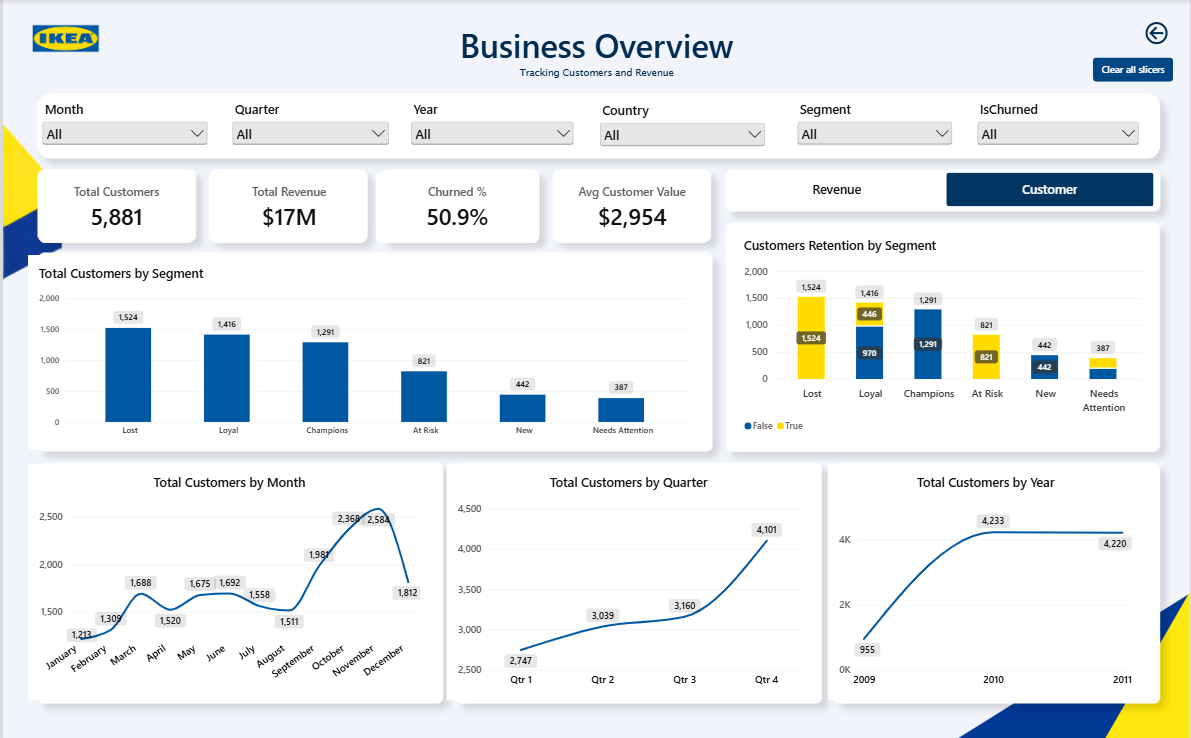

Layout of this report page (visuals, bound fields, positions):
{"tool":"powerbi","page":{"name":"Overview","canvas":[1750,1100],"ordinal":0},"visuals":[{"type":"cardVisual","fields":{"Data":["Sheet1.Churned %"]},"box":[549.2,254.9,241.8,105],"z":0},{"type":"columnChart","fields":{"Category":["Sheet1.Segment"],"Y":["Sheet1.Total Revenue"]},"box":[54.4,376.8,987.8,286.8],"z":0,"group":"g1"},{"type":"cardVisual","fields":{"Data":["Sheet1.Total Customers"]},"box":[54.4,254.9,228.7,105],"z":1000},{"type":"pieChart","title":"Revenue Retention by Segment","fields":{"Category":["Sheet1.Segment"],"Series":["Sheet1.IsChurned"],"Y":["Sheet1.Total Revenue"]},"box":[1070.4,333.7,627.9,329.9],"z":1000,"group":"g1"},{"type":"cardVisual","fields":{"Data":["Sheet1.Total Revenue"]},"box":[307.4,254.9,228.7,105],"z":2000},{"type":"lineChart","title":"Total Revenue by Month ","fields":{"Category":["Sheet1.InvoiceDate.Variation.Date Hierarchy.Month"],"Y":["Sheet1.Total Revenue"]},"box":[54.4,684.2,594.2,348.7],"z":2000,"group":"g1"},{"type":"cardVisual","fields":{"Data":["Sheet1.Avg Customer Value"]},"box":[815.4,254.9,226.8,105],"z":3000},{"type":"lineChart","fields":{"Category":["Sheet1.InvoiceDate.Variation.Date Hierarchy.Quarter"],"Y":["Sheet1.Total Revenue"]},"box":[671.1,684.2,536.1,348.7],"z":3000,"group":"g1"},{"type":"slicer","fields":{"Values":["Sheet1.InvoiceDate.Variation.Date Hierarchy.Month"]},"box":[54.4,148.1,253.1,76.9],"z":4000},{"type":"lineChart","fields":{"Category":["Sheet1.InvoiceDate.Variation.Date Hierarchy.Year"],"Y":["Sheet1.Total Revenue"]},"box":[1233.4,684.2,464.9,348.7],"z":4000,"group":"g1"},{"type":"slicer","fields":{"Values":["Sheet1.InvoiceDate.Variation.Date Hierarchy.Quarter"]},"box":[333.7,148.1,239.9,76.9],"z":5000},{"type":"slicer","fields":{"Values":["Sheet1.InvoiceDate.Variation.Date Hierarchy.Year"]},"box":[598,148.1,249.3,76.9],"z":6000},{"type":"slicer","fields":{"Values":["Sheet1.Country"]},"box":[875.4,150,253.1,75],"z":7000},{"type":"slicer","fields":{"Values":["Sheet1.Segment"]},"box":[1165.9,148.1,238.1,76.9],"z":8000},{"type":"slicer","fields":{"Values":["Sheet1.IsChurned"]},"box":[1432.1,148.1,247.4,75],"z":9000},{"type":"group","id":"g1","title":"Revenue","box":[54.4,333.7,1643.9,699.2],"z":11000},{"type":"bookmarkNavigator","box":[1075.9,254.9,620.5,50.6],"z":12001},{"type":"image","box":[3.7,15,178.1,84.4],"z":12002},{"type":"textbox","box":[558.2,33.7,633.6,99.3],"z":12003},{"type":"actionButton","box":[1651.4,13.1,99.3,71.2],"z":12004},{"type":"actionButton","box":[1606.4,84.4,118.1,35.6],"z":12005}]}

Visuals, with their boxes in screenshot pixels (x1, y1, x2, y2), scaled from the page's 1750x1100 canvas onto the 1191x738 screenshot:
cardVisual - Sheet1.Churned %: [left=374, top=171, right=538, bottom=241]
columnChart - Sheet1.Segment x Sheet1.Total Revenue: [left=37, top=253, right=709, bottom=445]
cardVisual - Sheet1.Total Customers: [left=37, top=171, right=193, bottom=241]
"Revenue Retention by Segment" pieChart: [left=728, top=224, right=1156, bottom=445]
cardVisual - Sheet1.Total Revenue: [left=209, top=171, right=365, bottom=241]
"Total Revenue by Month " lineChart: [left=37, top=459, right=441, bottom=693]
cardVisual - Sheet1.Avg Customer Value: [left=555, top=171, right=709, bottom=241]
lineChart - Sheet1.InvoiceDate.Variation.Date Hierarchy.Quarter x Sheet1.Total Revenue: [left=457, top=459, right=822, bottom=693]
slicer - Sheet1.InvoiceDate.Variation.Date Hierarchy.Month: [left=37, top=99, right=209, bottom=151]
lineChart - Sheet1.InvoiceDate.Variation.Date Hierarchy.Year x Sheet1.Total Revenue: [left=839, top=459, right=1156, bottom=693]
slicer - Sheet1.InvoiceDate.Variation.Date Hierarchy.Quarter: [left=227, top=99, right=390, bottom=151]
slicer - Sheet1.InvoiceDate.Variation.Date Hierarchy.Year: [left=407, top=99, right=577, bottom=151]
slicer - Sheet1.Country: [left=596, top=101, right=768, bottom=151]
slicer - Sheet1.Segment: [left=793, top=99, right=956, bottom=151]
slicer - Sheet1.IsChurned: [left=975, top=99, right=1143, bottom=150]
"Revenue" group: [left=37, top=224, right=1156, bottom=693]
bookmarkNavigator: [left=732, top=171, right=1155, bottom=205]
image: [left=3, top=10, right=124, bottom=67]
textbox: [left=380, top=23, right=811, bottom=89]
actionButton: [left=1124, top=9, right=1190, bottom=57]
actionButton: [left=1093, top=57, right=1174, bottom=81]
